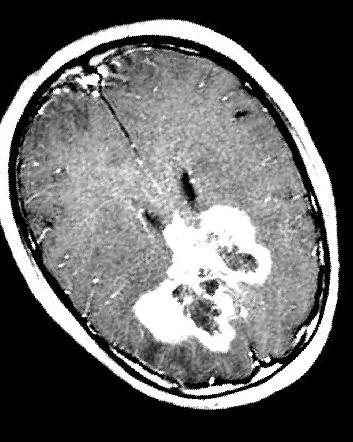Tumor: (131, 200, 279, 359)
